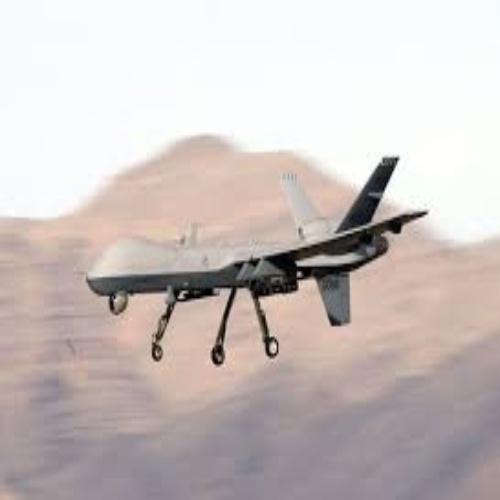uav: (78, 155, 429, 386)
